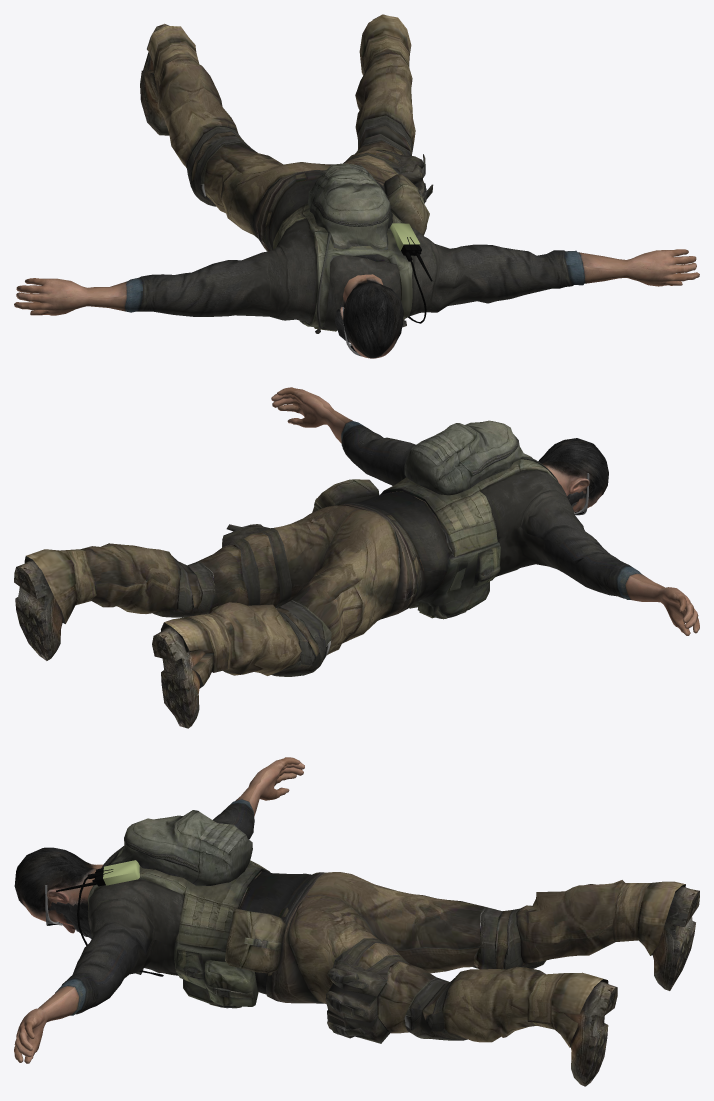
The picture shows the model from 3 angles, top to bottom: view 1: azimuth 30°, elevation 25°; view 2: azimuth 150°, elevation 25°; view 3: azimuth 270°, elevation 25°; orthographic projection. The views are drawn at different scales.
Parts seen in each view (by area): view 1: dusty_2; view 2: dusty_2; view 3: dusty_2.
Boxes of the visible parts, left/top/right/bottom form: dusty_2: left=14, top=14, right=699, bottom=358; dusty_2: left=14, top=387, right=699, bottom=728; dusty_2: left=14, top=757, right=699, bottom=1086.
Size of the model in its own units: 16.49 by 4.78 by 17.07.
Materials: 9 (5 with a texture image).
